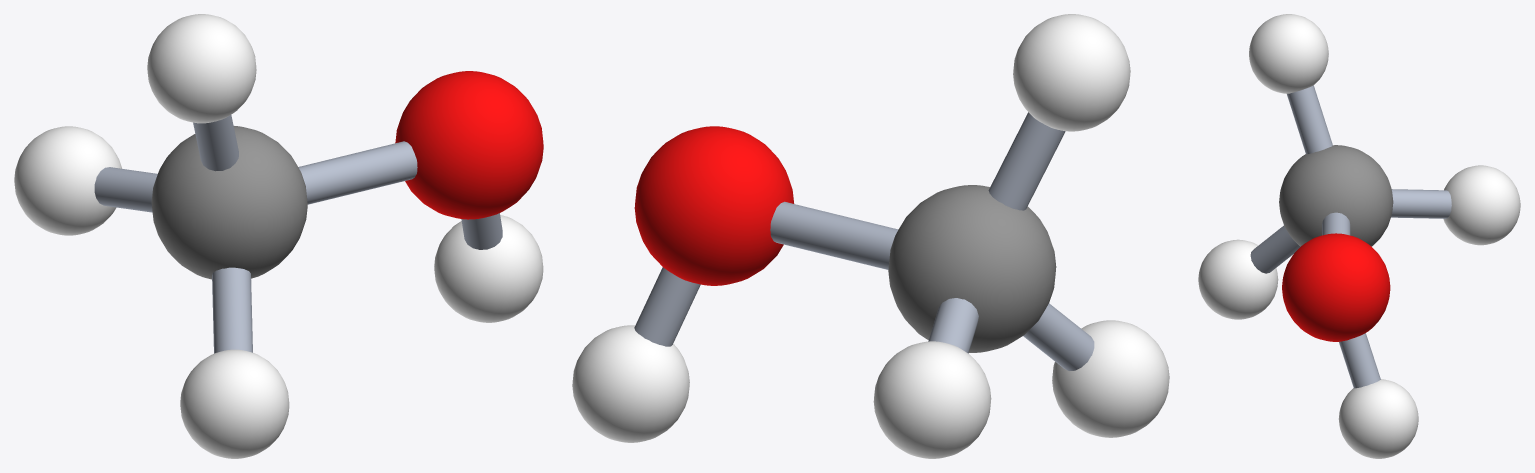
The model's file is methanol.glb.
3 views of the same model, side by side, from view 1: azimuth 30°, elevation 25°; view 2: azimuth 150°, elevation 25°; view 3: azimuth 270°, elevation 25° (orthographic). The views are drawn at different scales.
Parts seen in each view (by area): view 1: H (×4), C, O, bond (×5); view 2: H (×4), C, O, bond (×5); view 3: H (×4), O, C, bond (×5).
Part boxes in pixels (x1=…): H (×4): x1=14, y1=14, x2=543, y2=458; C: x1=151, y1=126, x2=307, y2=279; O: x1=395, y1=71, x2=543, y2=219; bond (×5): x1=94, y1=115, x2=502, y2=353; H (×4): x1=572, y1=14, x2=1169, y2=458; C: x1=888, y1=185, x2=1056, y2=352; O: x1=634, y1=126, x2=794, y2=285; bond (×5): x1=634, y1=112, x2=1094, y2=370; H (×4): x1=1198, y1=14, x2=1520, y2=458; O: x1=1282, y1=233, x2=1390, y2=341; C: x1=1279, y1=145, x2=1393, y2=246; bond (×5): x1=1250, y1=85, x2=1451, y2=388.
Size of the model in its own units: 0.22 by 0.2026 by 0.189.
